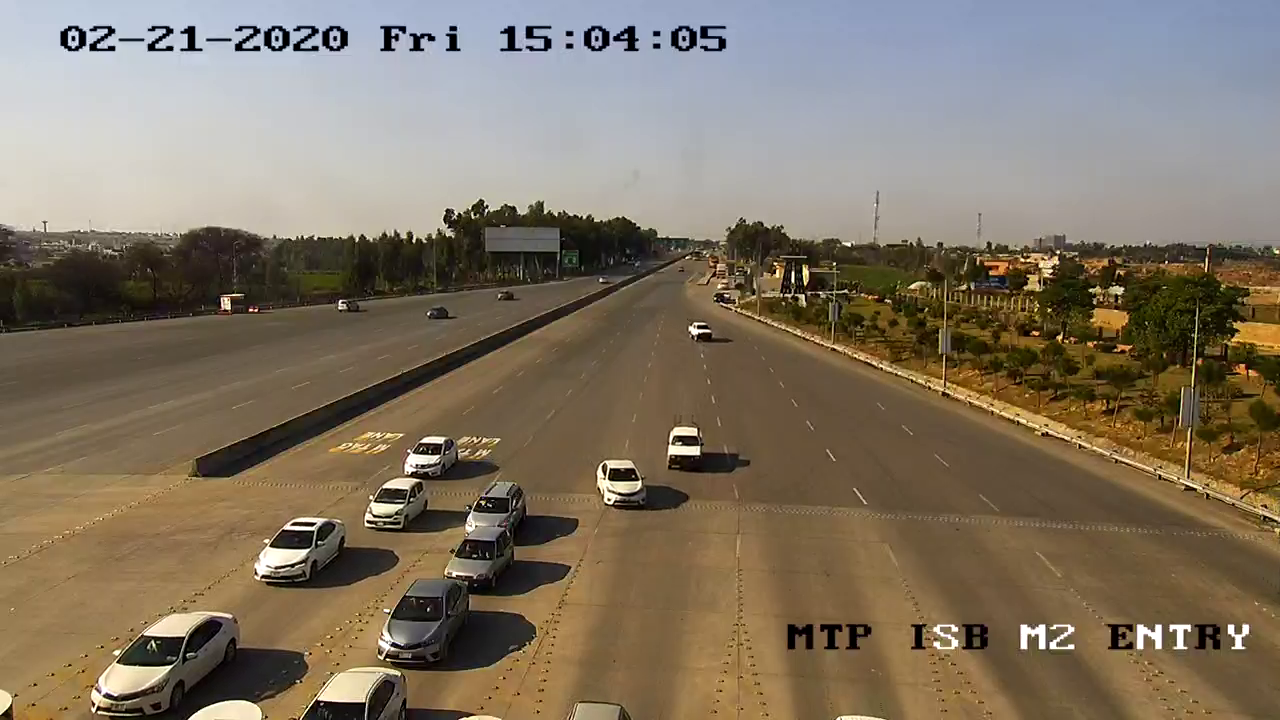f1: (80, 603, 243, 720), (371, 574, 479, 674), (249, 510, 350, 590), (361, 471, 435, 537), (395, 424, 466, 484), (585, 454, 649, 518), (657, 420, 712, 474)
